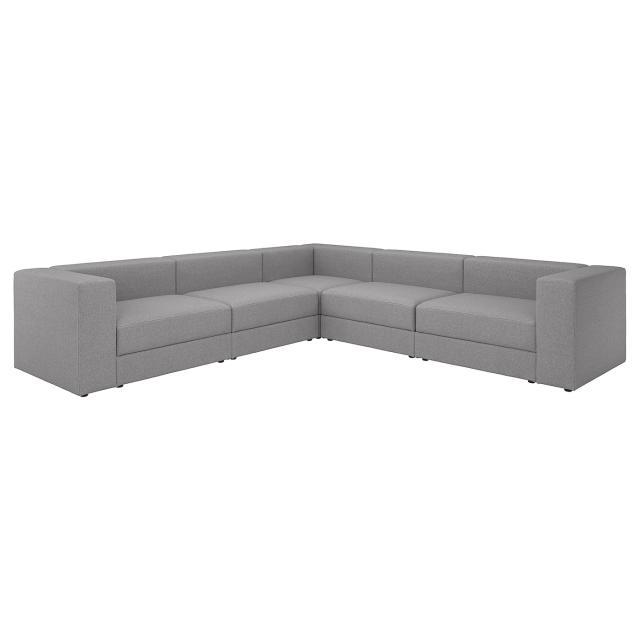sofa: (13, 241, 627, 398)
